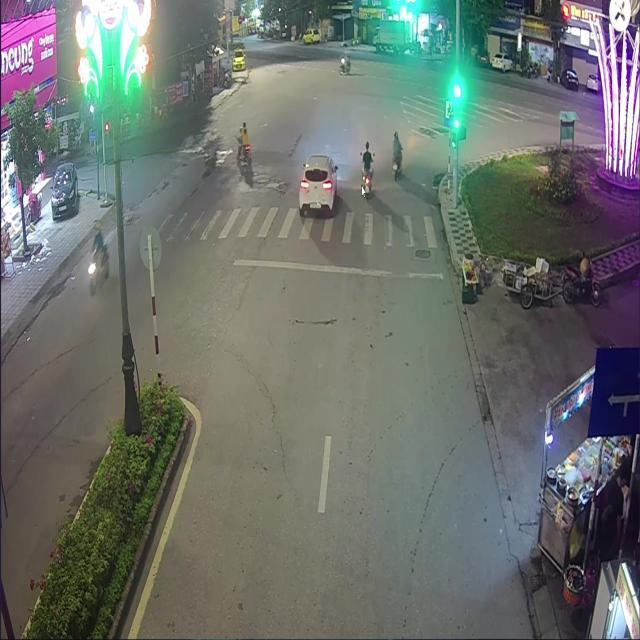car: (297, 154, 335, 215)
green_light: (452, 99, 459, 128)
motobike: (236, 141, 250, 169), (361, 173, 371, 198), (391, 157, 400, 180)
stop_line: (231, 258, 442, 280)
